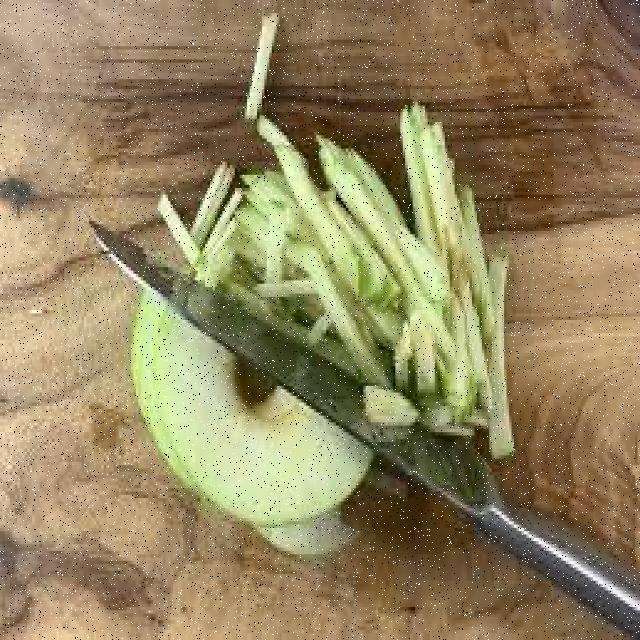Apple: (148, 314, 381, 529)
